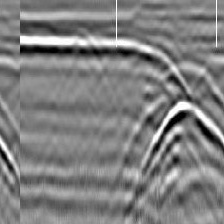Utility: (122, 58, 224, 198)
